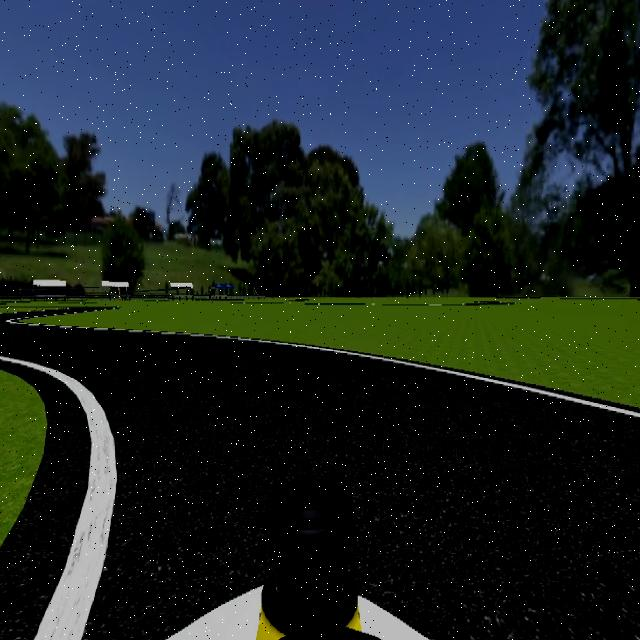road: (0, 317, 640, 640)
solid_line: (158, 332, 640, 421), (0, 355, 117, 640)
